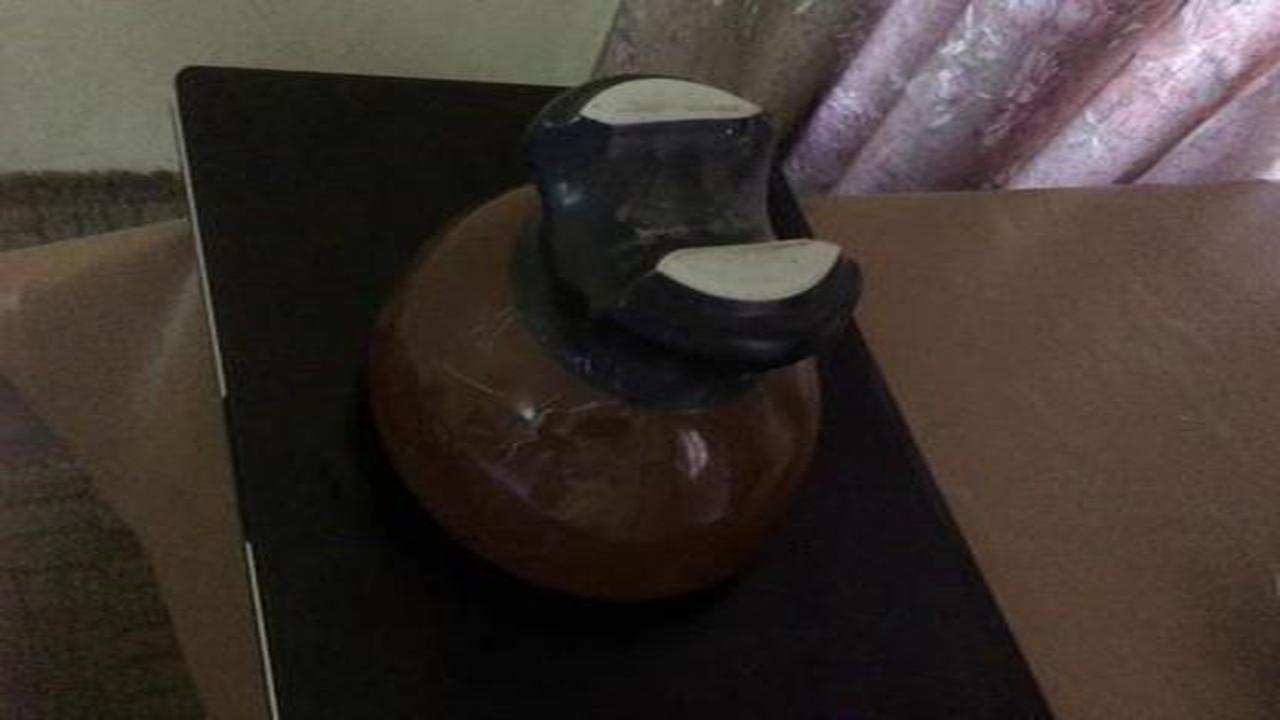insulator_pin: (348, 60, 884, 629)
